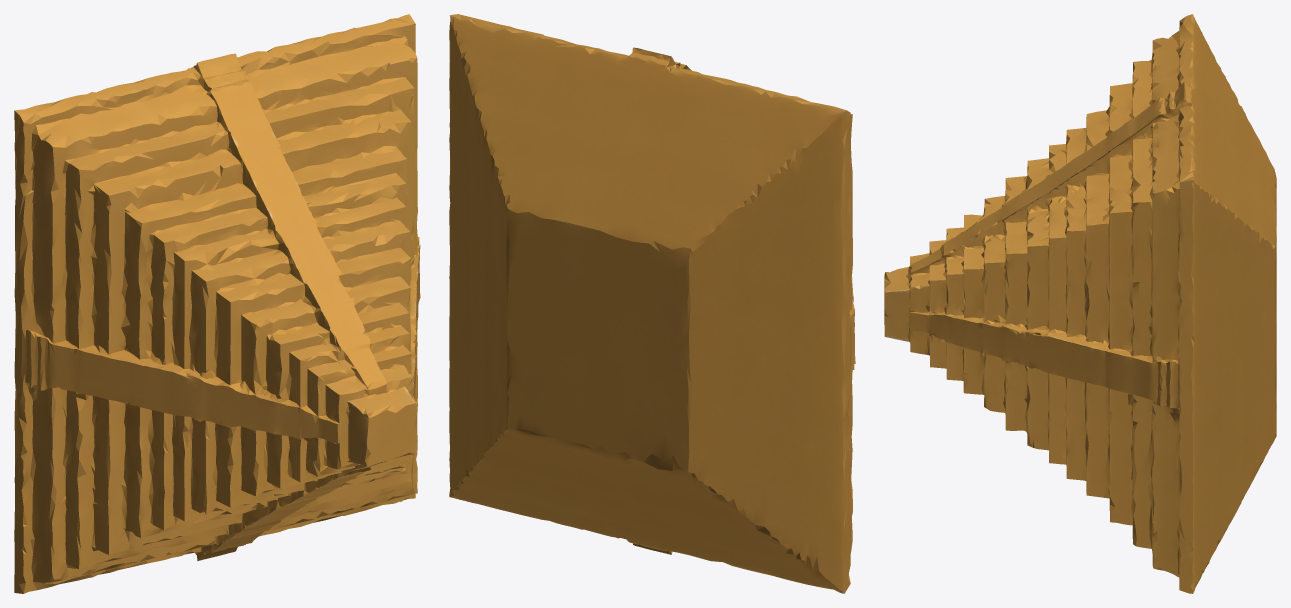
3 views of the same model, side by side, from view 1: azimuth 30°, elevation 25°; view 2: azimuth 150°, elevation 25°; view 3: azimuth 270°, elevation 25° (orthographic). The views are drawn at different scales.
Parts seen in each view (by area): view 1: Pyramid_v1; view 2: Pyramid_v1; view 3: Pyramid_v1.
Boxes of the visible parts, x1,y1,x2,y2 form: Pyramid_v1: (14,14,420,593); Pyramid_v1: (449,14,855,593); Pyramid_v1: (884,14,1276,593).
Bounding box in the file's own units: 1.57 × 1.89 × 1.57.
Materials: 1 (1 with a texture image).
